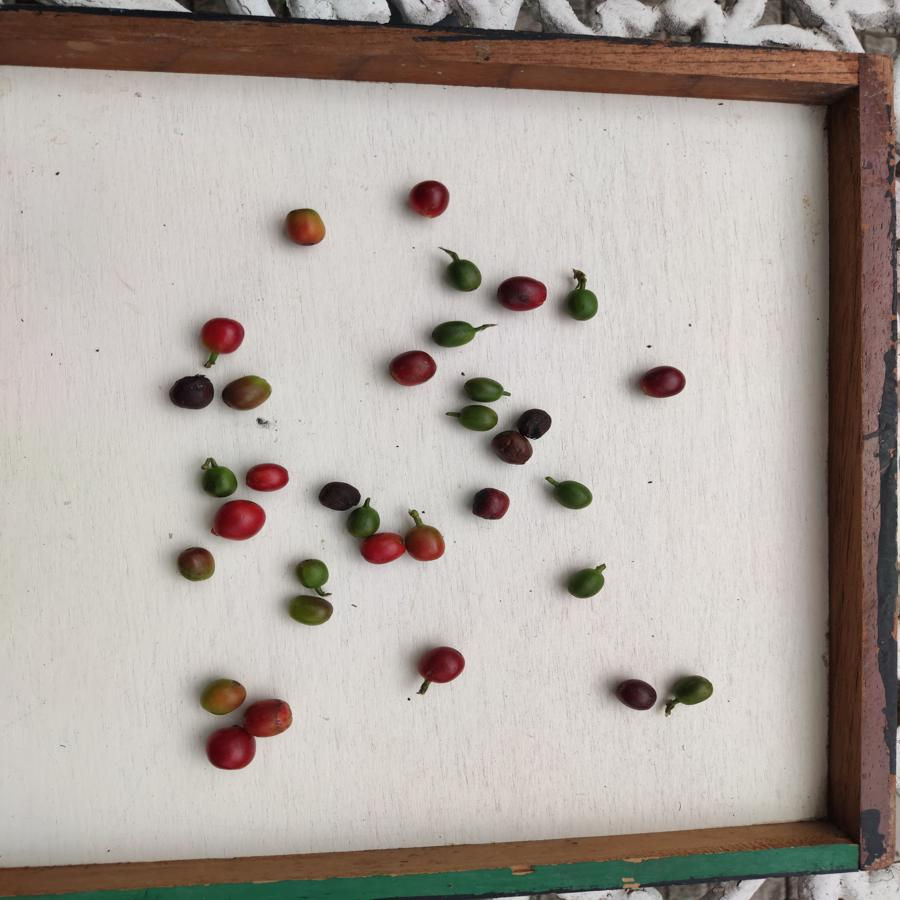Inmaduro: (672, 674, 718, 709), (460, 374, 511, 404), (444, 258, 485, 293), (565, 565, 606, 600), (342, 504, 385, 537), (431, 320, 478, 349), (552, 478, 594, 510), (296, 557, 331, 594), (565, 287, 603, 321), (201, 464, 239, 498), (457, 405, 499, 433)
Maduro: (212, 499, 265, 544), (243, 698, 295, 738), (208, 728, 256, 770), (202, 317, 244, 357), (243, 462, 290, 495), (359, 532, 403, 565)
Pinton: (222, 374, 275, 412), (281, 208, 330, 246), (198, 678, 247, 716), (287, 592, 336, 629), (406, 522, 446, 563), (176, 545, 219, 582)
Sobremaduro: (416, 643, 466, 687), (388, 348, 439, 390), (636, 362, 685, 404), (498, 274, 547, 312), (408, 178, 452, 218), (168, 375, 217, 410), (614, 677, 663, 712), (491, 429, 536, 466), (471, 485, 510, 523), (514, 404, 555, 440), (318, 480, 364, 510)
